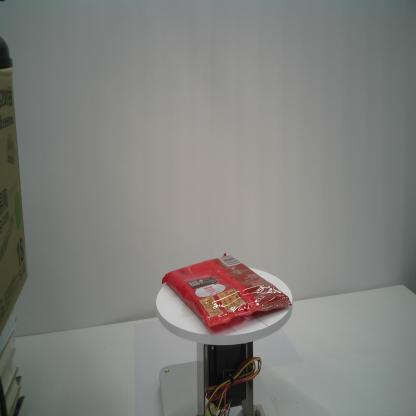Dessert: (161, 252, 293, 328)
